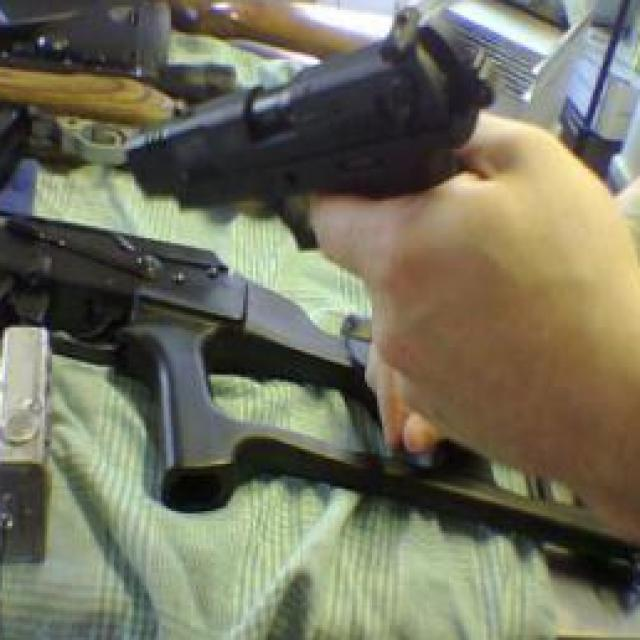pistol: (123, 8, 511, 246)
